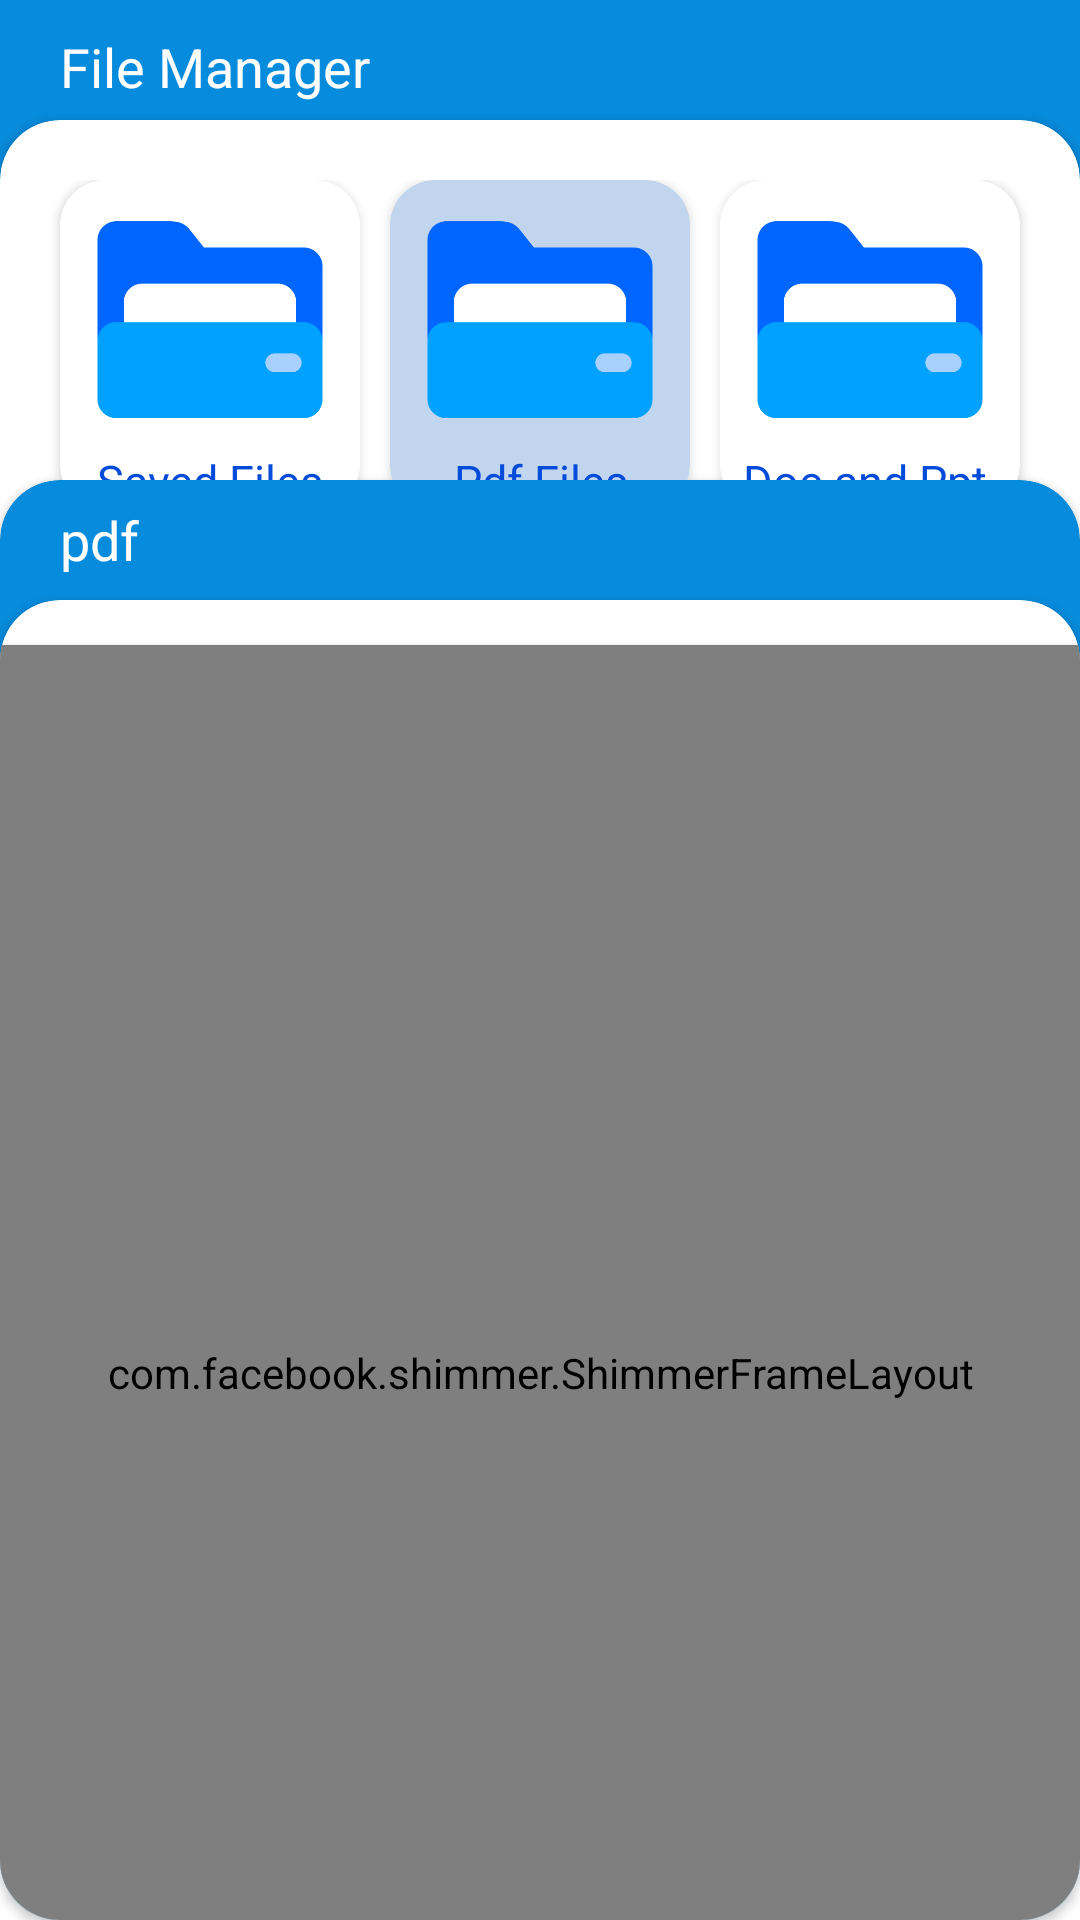

Icon bounding boxes for this 1080x1920 phone screenshot, format (left=x1, top=y1, right=x2, bottom=y2):
folder: (left=97, top=221, right=323, bottom=418), (left=427, top=221, right=653, bottom=418), (left=757, top=221, right=983, bottom=418)
